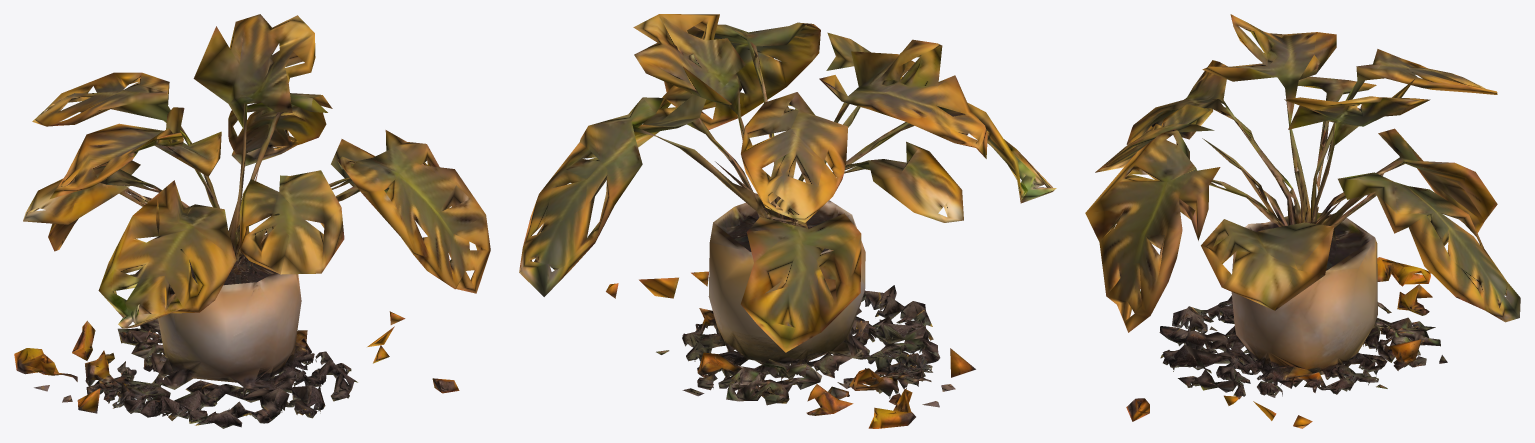
File: dead_monstera.glb
3 views of the same model, side by side, from view 1: azimuth 30°, elevation 25°; view 2: azimuth 150°, elevation 25°; view 3: azimuth 270°, elevation 25° (orthographic). The views are drawn at different scales.
Parts seen in each view (by area): view 1: Object_4; view 2: Object_4; view 3: Object_4.
Part boxes in pixels (x1,y1,x2,y2): Object_4: (14,14,490,428); Object_4: (519,14,1056,428); Object_4: (1085,14,1520,428).
Bounding box in the file's own units: 1.89 × 1.48 × 1.88.
Materials: 1 (1 with a texture image).
